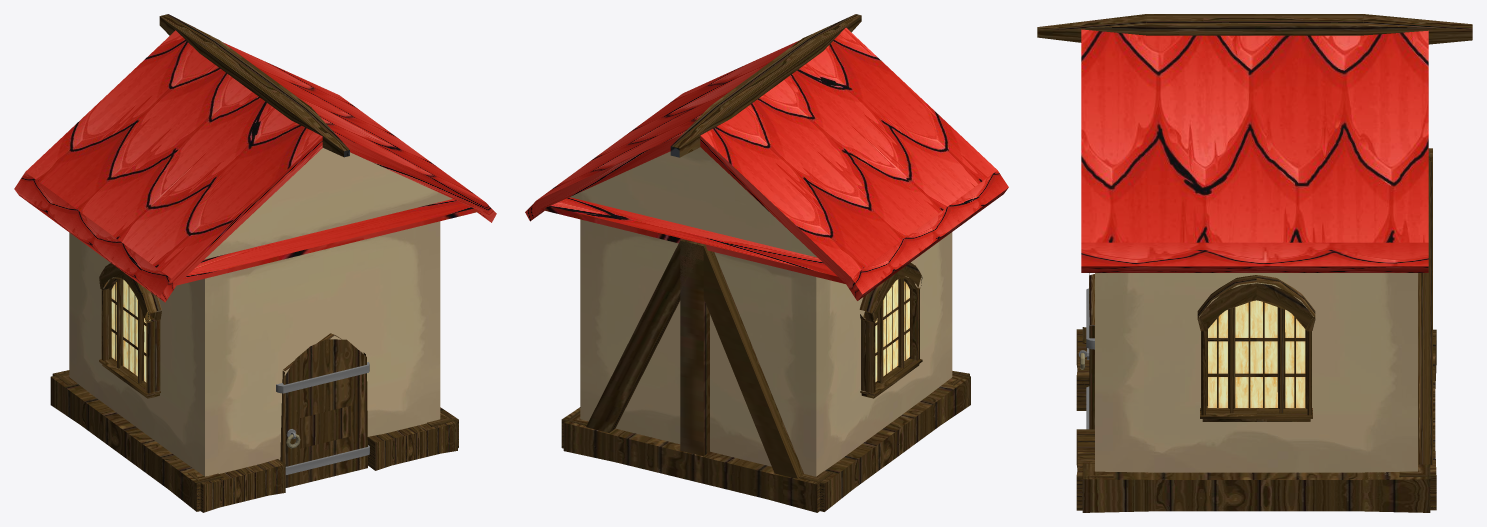
Rendered from house_chesburg_1.glb.
The picture shows the model from 3 angles, left to right: view 1: azimuth 30°, elevation 25°; view 2: azimuth 150°, elevation 25°; view 3: azimuth 270°, elevation 25°; orthographic projection. The views are drawn at different scales.
Visible parts, largest first — view 1: Cube.009, Cube.004, Cube.011, deur_hout_0.001, Object_6.001, deur_ijzer_0.001; view 2: Cube.009, Cube.010, Cube.011, Object_6.001; view 3: Cube.009, Cube.012, Object_6.002, Cube.010, Cube.004, deur_hout_0.001, deur_ijzer_0.001.
Boxes of the visible parts, left/top/right/bottom form: Cube.009: left=14, top=14, right=496, bottom=302; Cube.004: left=188, top=221, right=457, bottom=512; Cube.011: left=50, top=232, right=223, bottom=511; deur_hout_0.001: left=280, top=333, right=367, bottom=487; Object_6.001: left=99, top=263, right=161, bottom=398; deur_ijzer_0.001: left=276, top=362, right=369, bottom=474; Cube.009: left=525, top=14, right=1008, bottom=300; Cube.010: left=563, top=219, right=832, bottom=512; Cube.011: left=799, top=232, right=970, bottom=511; Object_6.001: left=859, top=262, right=922, bottom=398; Cube.009: left=1037, top=14, right=1472, bottom=272; Cube.012: left=1082, top=273, right=1430, bottom=512; Object_6.002: left=1197, top=275, right=1315, bottom=421; Cube.010: left=1399, top=148, right=1436, bottom=510; Cube.004: left=1076, top=329, right=1113, bottom=510; deur_hout_0.001: left=1089, top=273, right=1094, bottom=429; deur_ijzer_0.001: left=1078, top=288, right=1094, bottom=429.
Size of what is drawn, in the model's own units: 6.65 by 6.63 by 6.26.
Materials: 5 (5 with a texture image).
